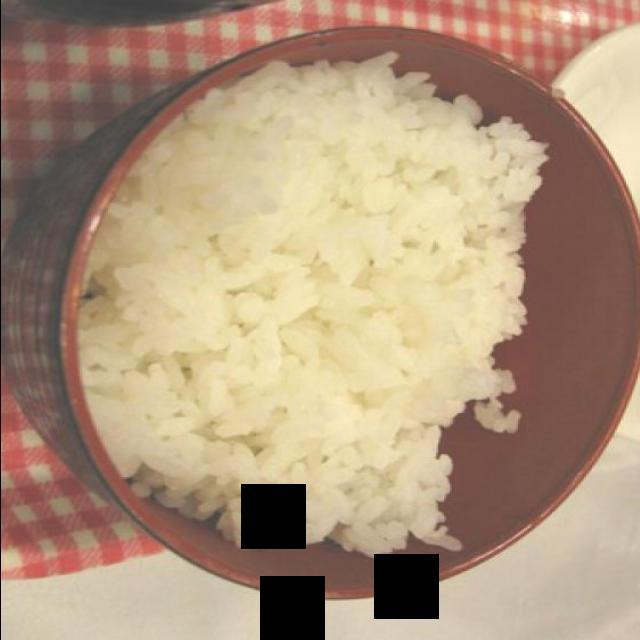rice: (80, 52, 548, 557)
